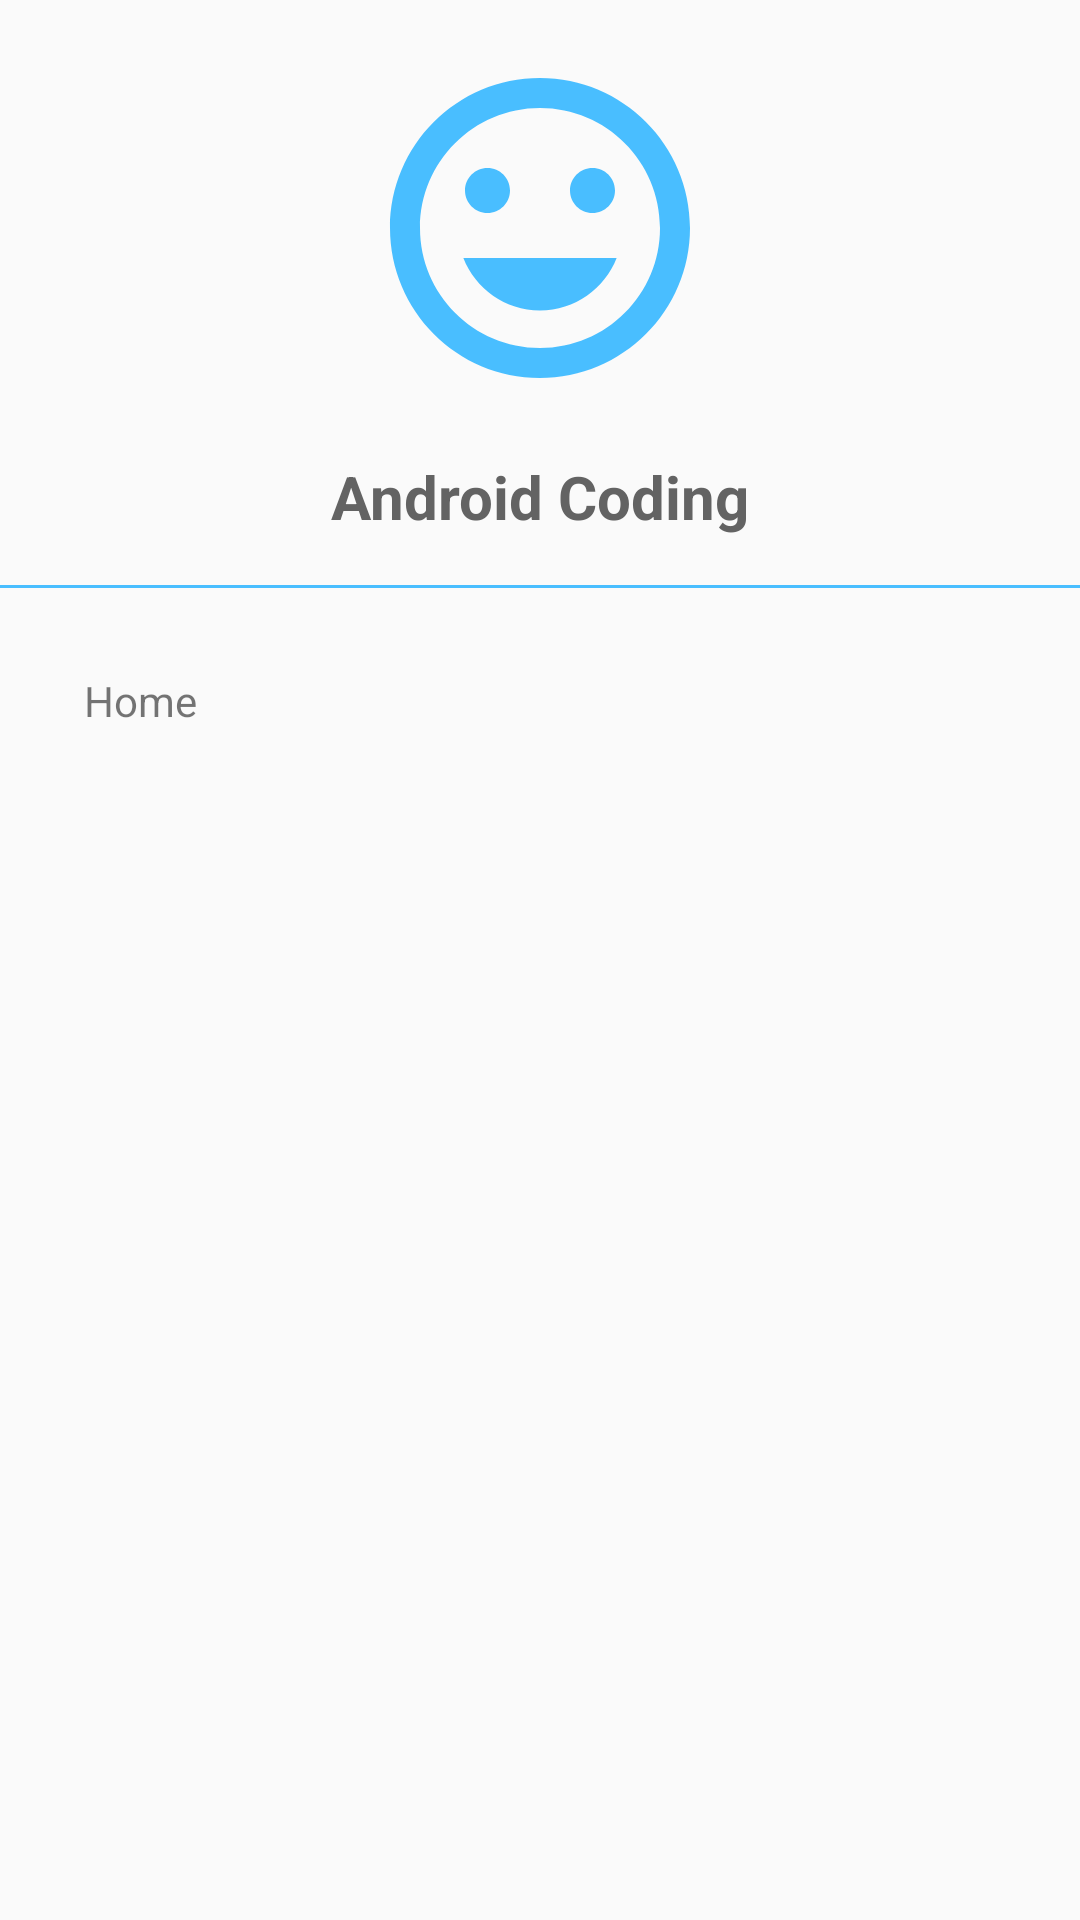

Where to tap for icons on this 1080 × 1920 app screen, as (x,y):
mood: (540,228)
